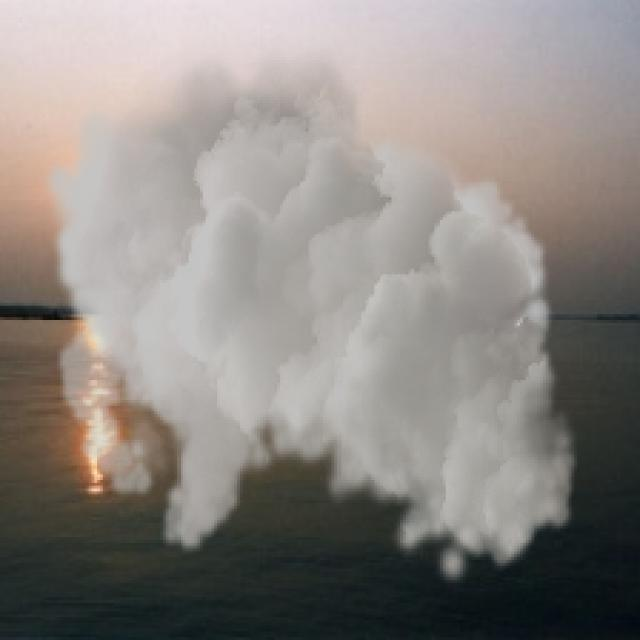Smoke: (40, 31, 580, 588)
